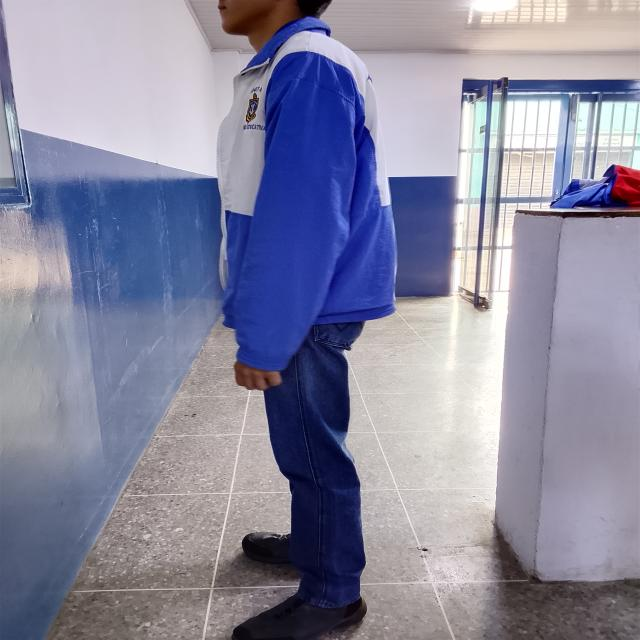chaqueta_unefa: (214, 16, 400, 373)
